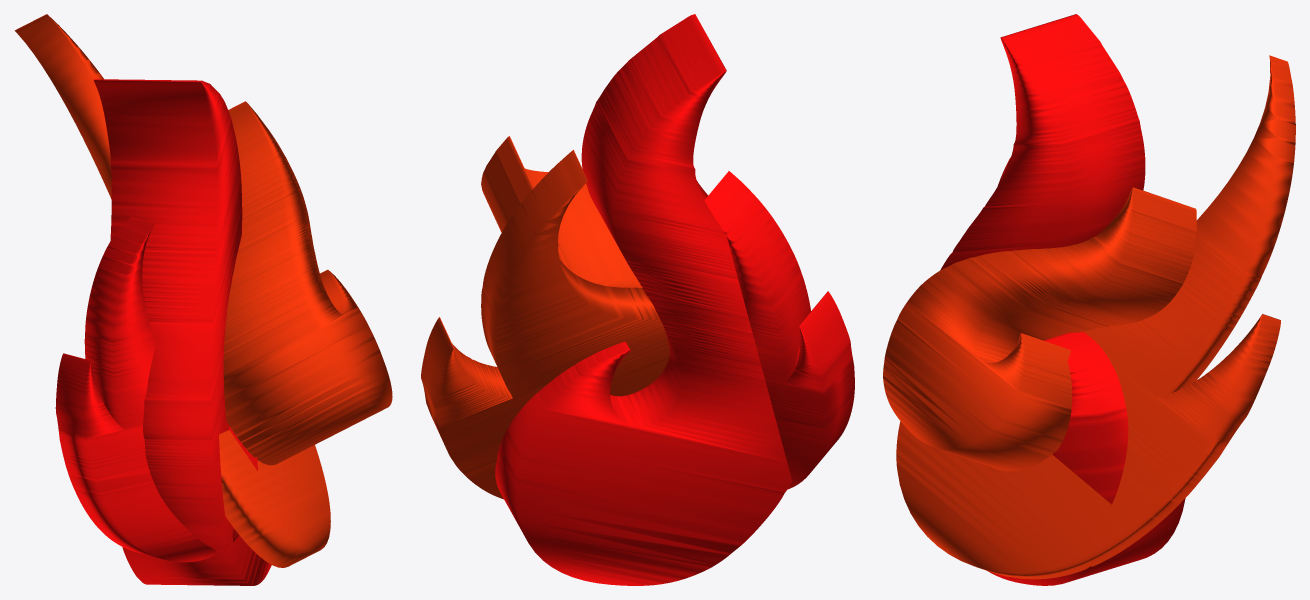
Rendered from fired.dae.
The picture shows the model from 3 angles, left to right: view 1: azimuth 30°, elevation 25°; view 2: azimuth 150°, elevation 25°; view 3: azimuth 270°, elevation 25°; orthographic projection. The views are drawn at different scales.
Visible parts, largest first — view 1: 3DSMesh_0, 3DSMesh_2, 3DSMesh_1, 3DSMesh_3; view 2: 3DSMesh_0, 3DSMesh_3, 3DSMesh_1, 3DSMesh_2; view 3: 3DSMesh_3, 3DSMesh_2, 3DSMesh_0.
Boxes of the visible parts, x1,y1,x2,y2 form: 3DSMesh_0: [94, 79, 271, 585]; 3DSMesh_2: [223, 101, 392, 465]; 3DSMesh_1: [55, 217, 257, 562]; 3DSMesh_3: [14, 14, 330, 567]; 3DSMesh_0: [495, 14, 799, 585]; 3DSMesh_3: [421, 150, 669, 499]; 3DSMesh_1: [704, 171, 854, 489]; 3DSMesh_2: [481, 136, 642, 287]; 3DSMesh_3: [896, 55, 1295, 579]; 3DSMesh_2: [883, 187, 1196, 471]; 3DSMesh_0: [940, 14, 1185, 585].
Size of the model in its own units: 2.28 by 2.65 by 3.67.
